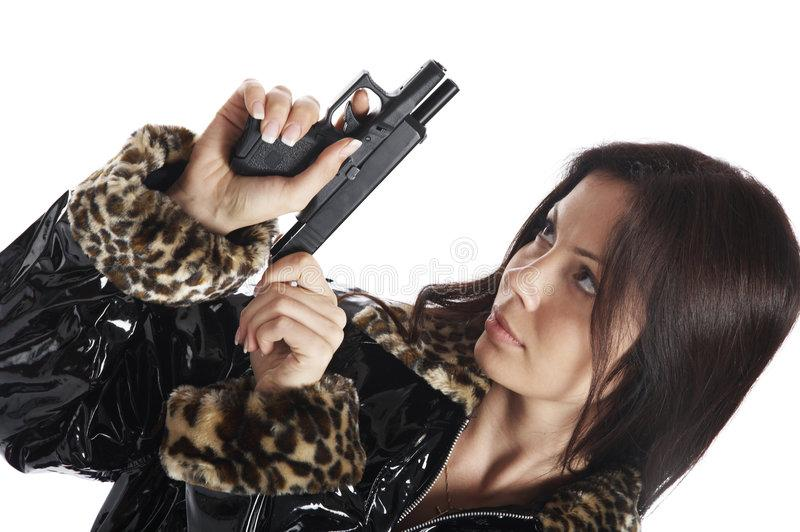criminal: (0, 52, 800, 532)
weapon: (225, 52, 461, 281)
